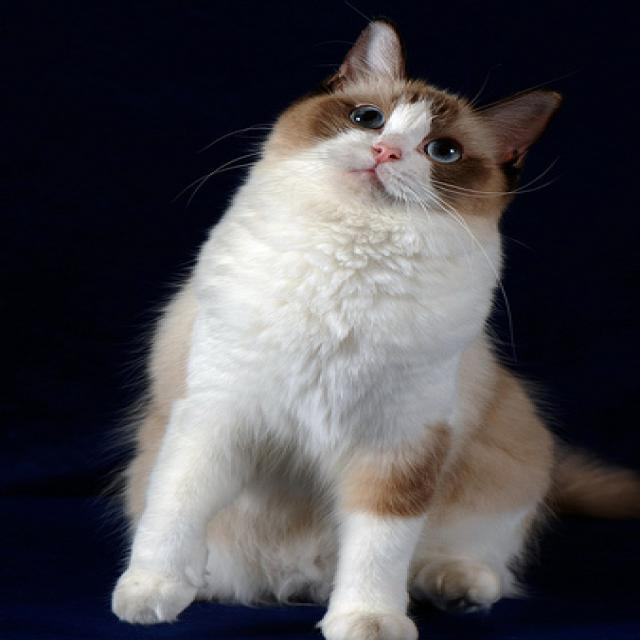Ragdoll: (102, 14, 640, 640)
